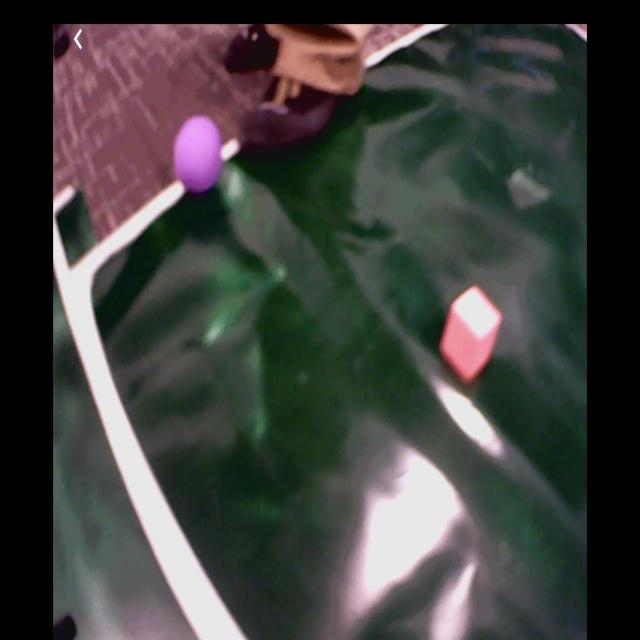ball: (175, 119, 222, 189)
